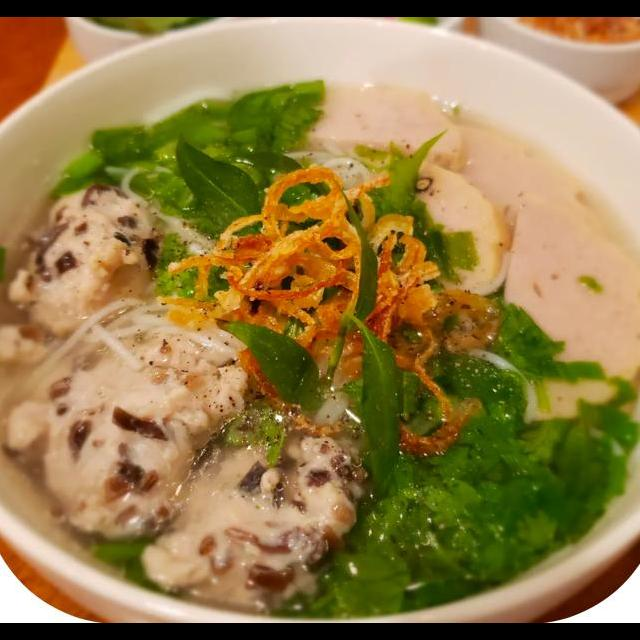bun: (38, 296, 245, 373)
vien moc: (128, 411, 376, 616), (1, 343, 252, 541), (2, 177, 168, 342)
